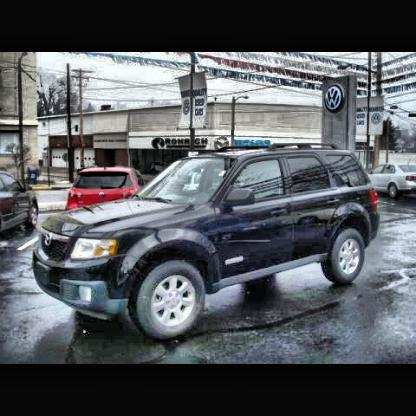Mazda Tribute SUV 2011: (29, 142, 382, 334)
